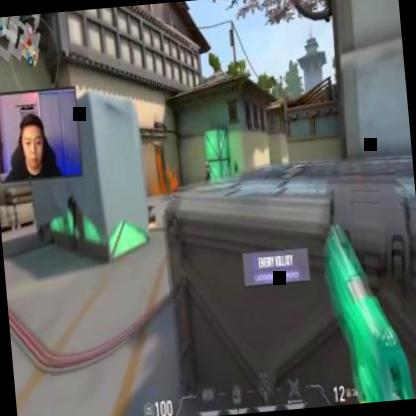enemy: (204, 160, 214, 194)
enemy_head: (205, 160, 209, 168)
